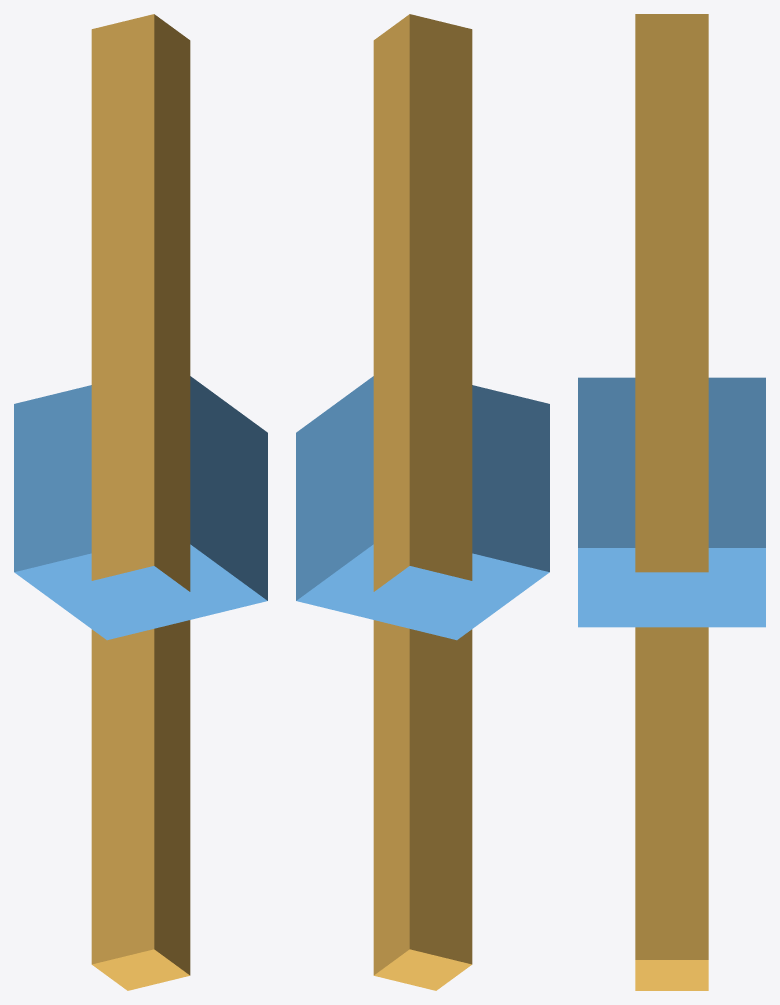
File: m6-rig-proof.glb
3 views of the same model, side by side, from view 1: azimuth 30°, elevation 25°; view 2: azimuth 150°, elevation 25°; view 3: azimuth 270°, elevation 25° (orthographic).
Parts seen in each view (by area): view 1: JV_m6_fl_coilover, JV_m6_chassis; view 2: JV_m6_fl_coilover, JV_m6_chassis; view 3: JV_m6_fl_coilover, JV_m6_chassis.
Part boxes in pixels (left/top/right/bottom): JV_m6_fl_coilover: left=91, top=14, right=190, bottom=990; JV_m6_chassis: left=14, top=376, right=267, bottom=640; JV_m6_fl_coilover: left=373, top=14, right=472, bottom=990; JV_m6_chassis: left=296, top=376, right=549, bottom=640; JV_m6_fl_coilover: left=635, top=14, right=708, bottom=990; JV_m6_chassis: left=578, top=377, right=765, bottom=627.
Size of the model in its own units: 0.18 by 1 by 0.18.
